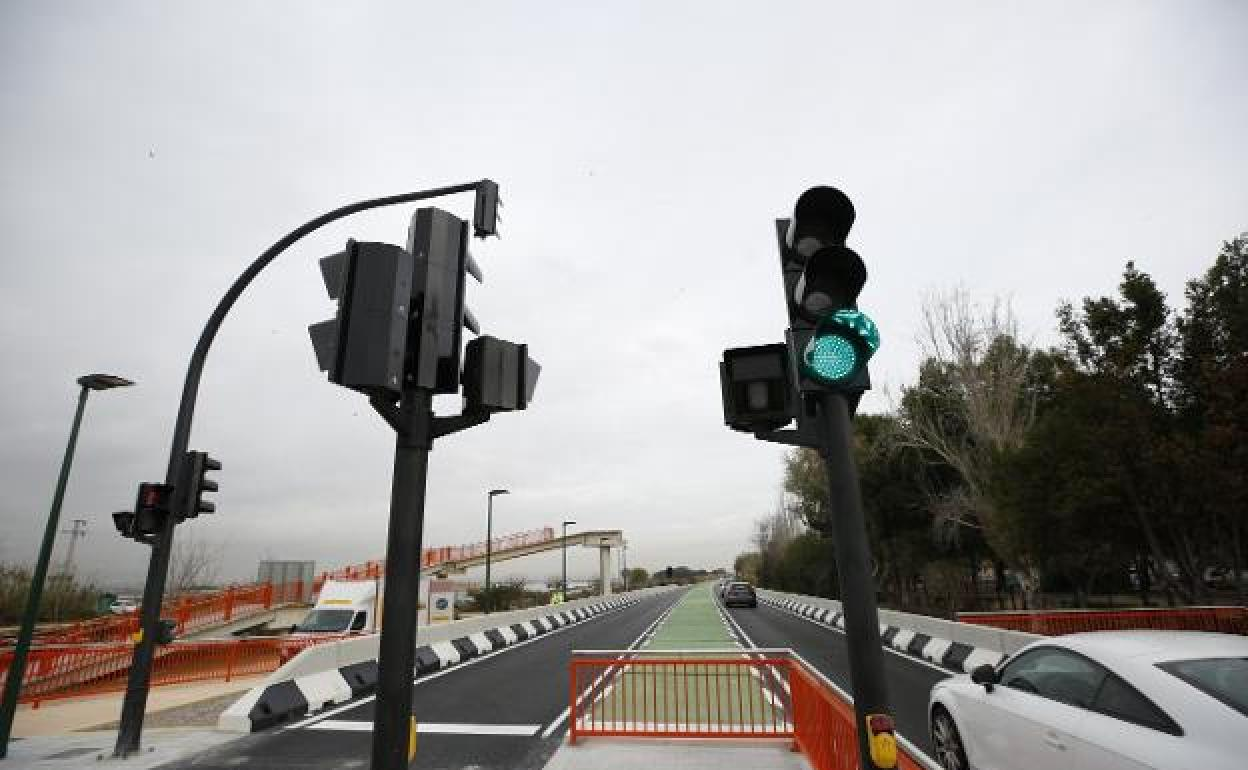Poste: (809, 394, 917, 765), (384, 391, 429, 770)
Semaforo: (767, 205, 883, 395), (308, 237, 410, 394), (397, 207, 465, 394)
Valla: (567, 655, 794, 745)
Vehiculo: (927, 629, 1248, 768)
